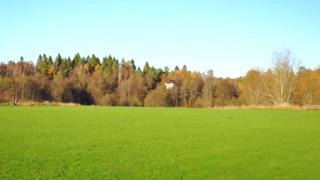UAV: (164, 83, 176, 90)
